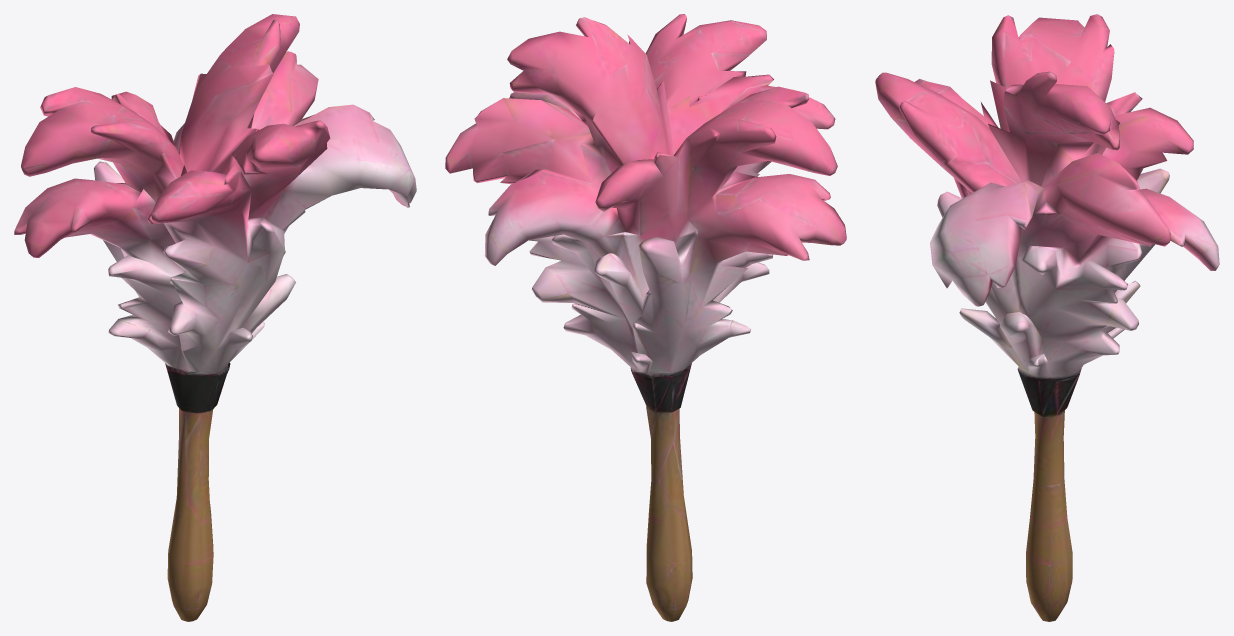
The model's file is item-featherDuster.glb.
3 renders of one model, left to right at view 1: azimuth 30°, elevation 25°; view 2: azimuth 150°, elevation 25°; view 3: azimuth 270°, elevation 25°, orthographic. The views are drawn at different scales.
Bounding box in the file's own units: 0.6157 × 0.9531 × 0.5015.
1 material, 1 textured.
